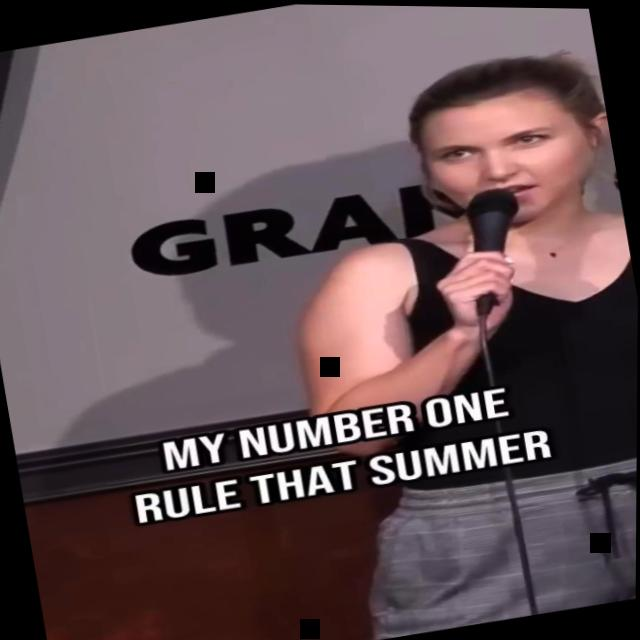NO-Mask: (414, 81, 601, 237)
